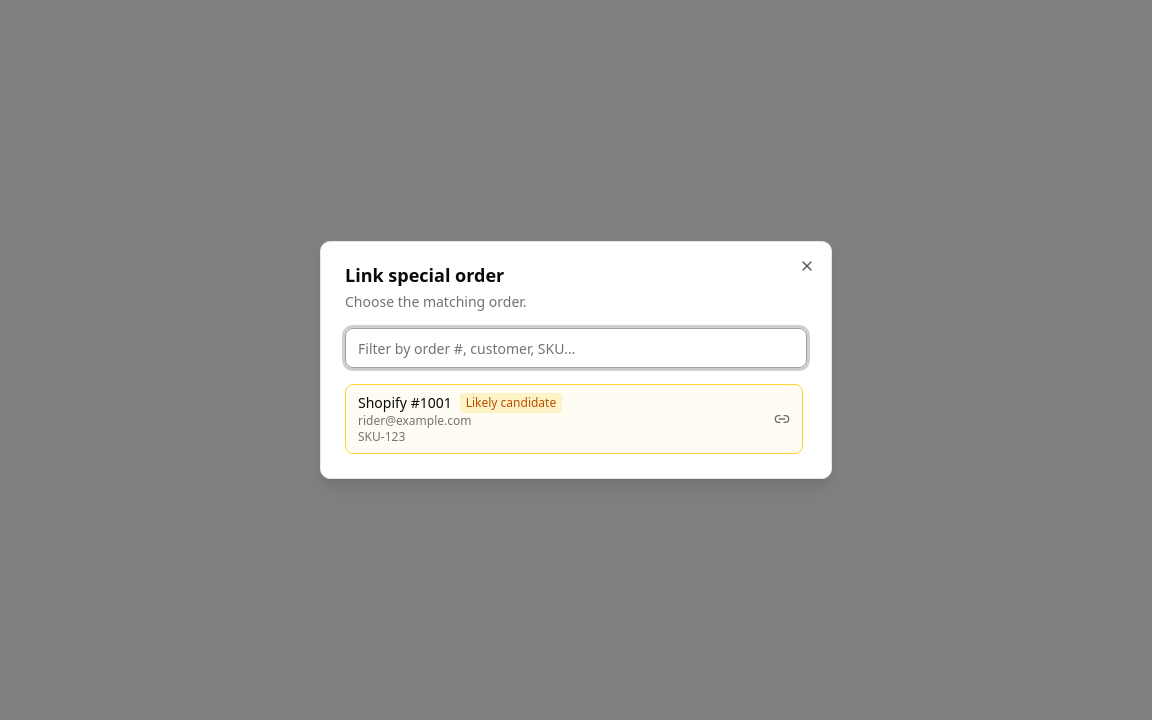
manual matching review › requires confirmation before linking a local candidate
Later steps or results of the test are not shown.
Click the button "Shopify #1001 Likely candidate rider@example.com SKU-123": (405, 402) [345, 384, 803, 454]
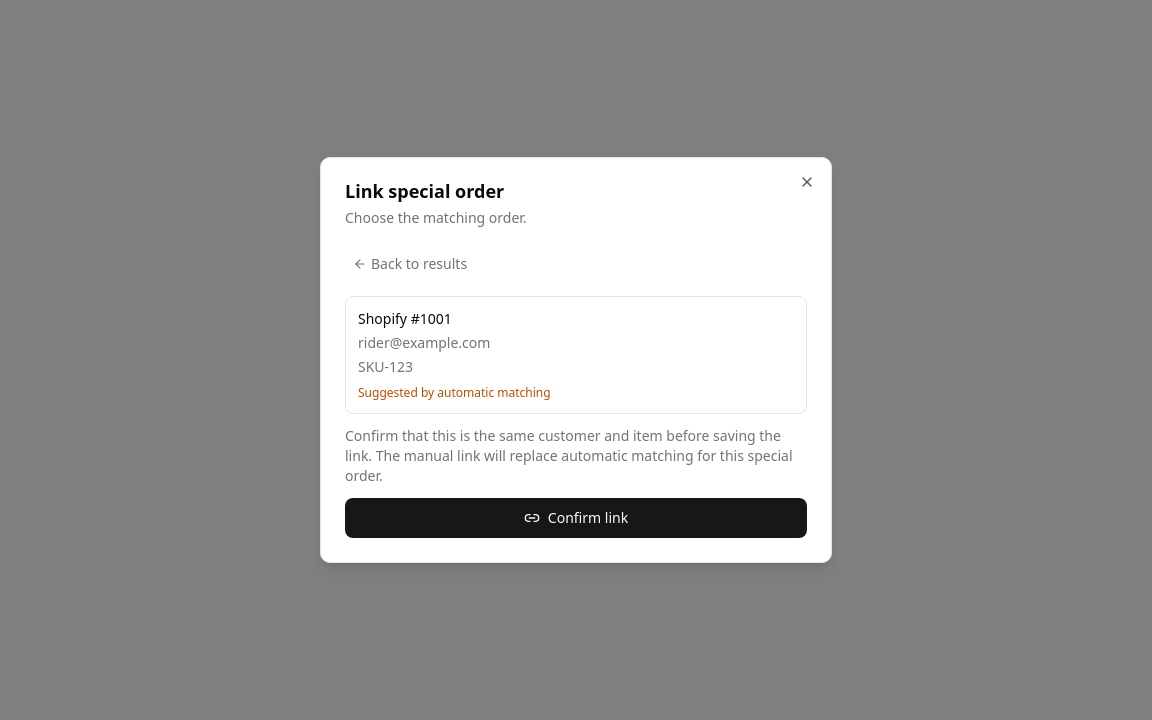
Result: the text "Confirm that this is the same customer and item" is shown at [345, 426, 792, 485]
